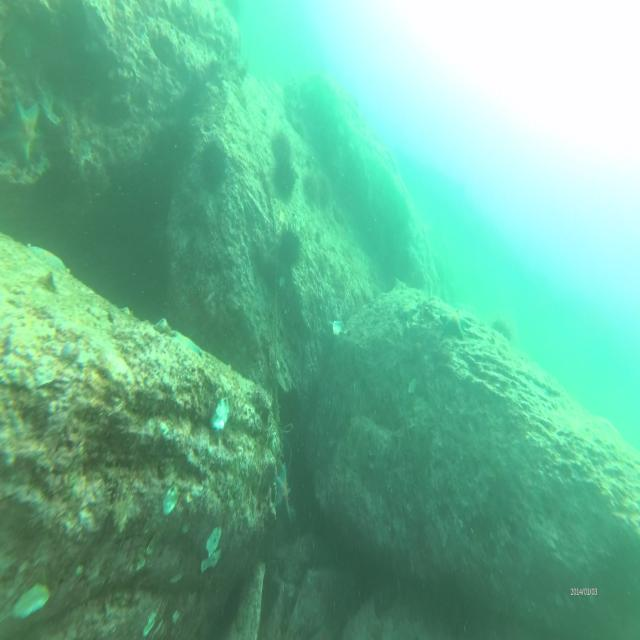echinus: (196, 130, 230, 190), (277, 222, 302, 265), (273, 161, 298, 199), (274, 126, 292, 162), (305, 170, 319, 206)
starfish: (3, 91, 45, 166), (273, 458, 296, 526), (30, 239, 69, 279), (441, 303, 470, 343)
